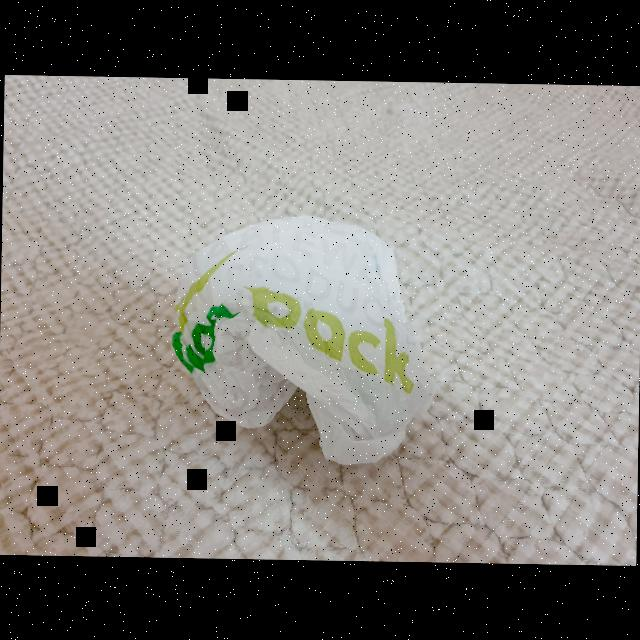plastic_bag: (158, 202, 450, 474)
